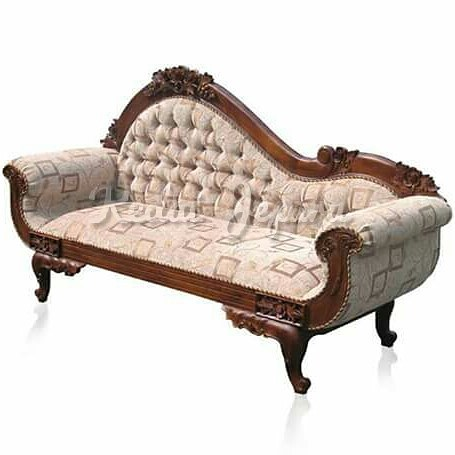Carving Chair: (21, 82, 426, 371)
